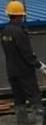gloves: (1, 0, 1, 1), (1, 1, 1, 1)
hard-hat: (5, 0, 26, 15)
